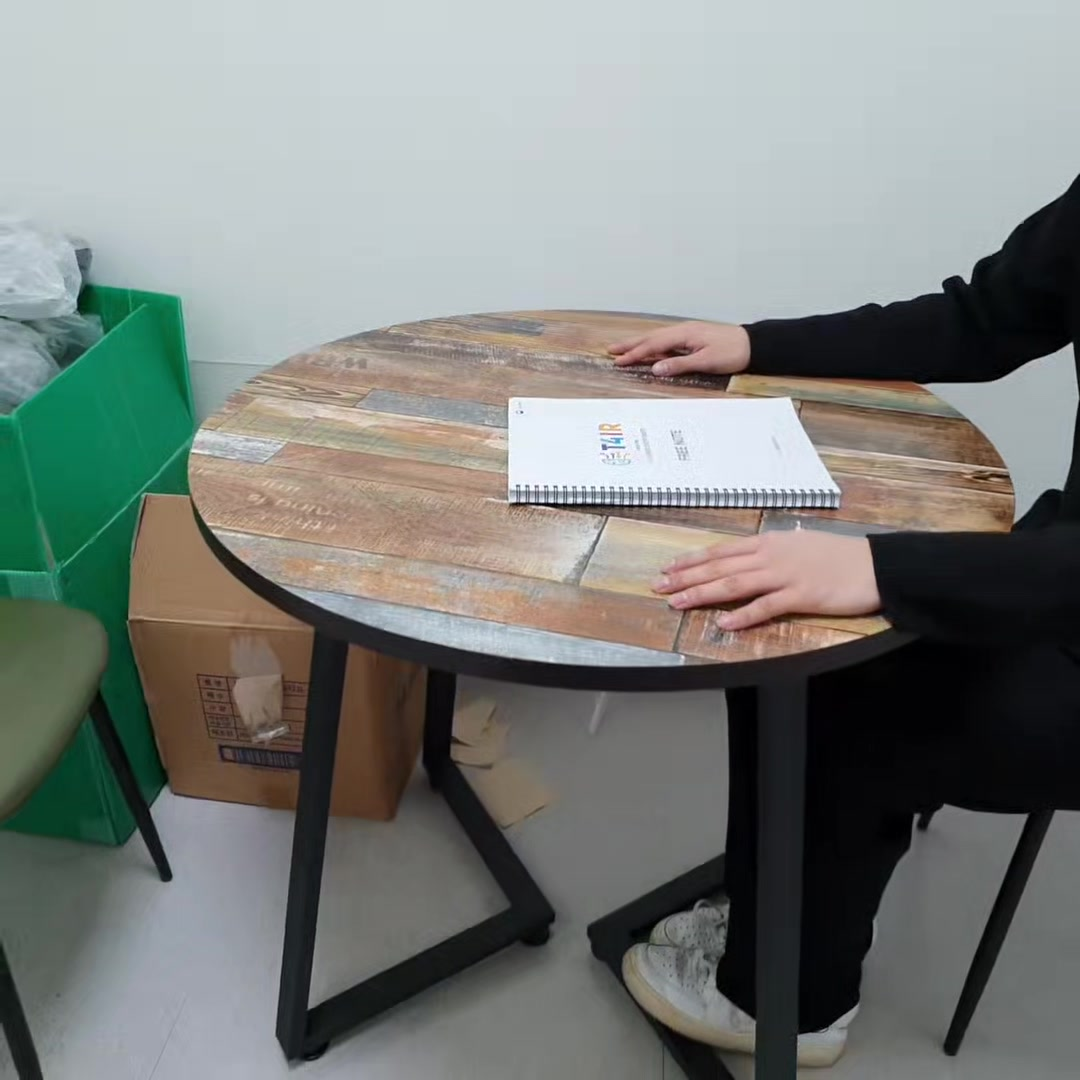book: (505, 395, 841, 509)
